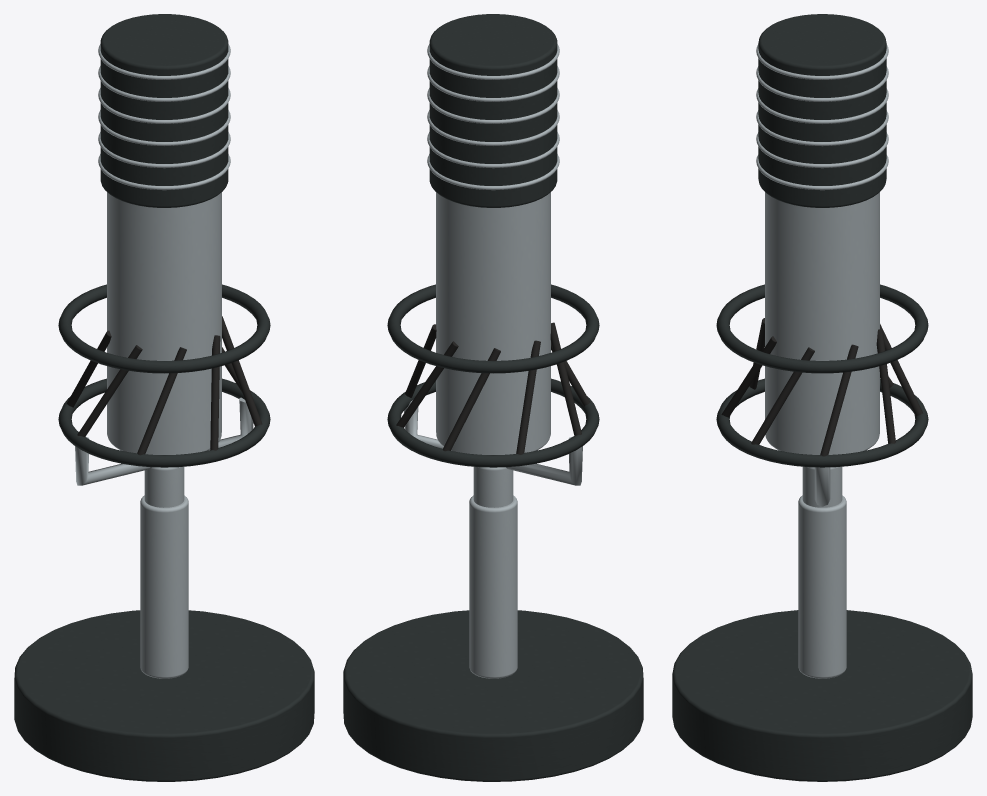
Rendered from microphone.glb.
3 renders of one model, left to right at view 1: azimuth 30°, elevation 25°; view 2: azimuth 150°, elevation 25°; view 3: azimuth 270°, elevation 25°, orthographic.
Visible parts, largest first — view 1: Desk microphone base, Condenser body, Condenser grille, Stand stem, Shock mount cage.001, Shock mount cage, Shock-mount lower cradle, Stand-to-shock-mount adapter, Shock suspension.006, Shock suspension.005, Shock suspension.004, Shock suspension.007 (+7 smaller); view 2: Desk microphone base, Condenser body, Condenser grille, Stand stem, Shock mount cage.001, Shock mount cage, Stand-to-shock-mount adapter, Shock-mount lower cradle, Shock suspension.003, Shock suspension.002, Shock suspension.004, Shock suspension.001 (+7 smaller); view 3: Desk microphone base, Condenser body, Condenser grille, Stand stem, Shock mount cage.001, Shock mount cage, Stand-to-shock-mount adapter, Shock suspension, Shock suspension.001, Shock suspension.007, Grille band.005, Grille band.004 (+7 smaller).
Boxes of the visible parts, box(x1,y1,x2,y2) form: Desk microphone base: box(14, 610, 314, 781); Condenser body: box(107, 192, 221, 454); Condenser grille: box(100, 14, 228, 207); Stand stem: box(140, 495, 188, 678); Shock mount cage.001: box(58, 284, 270, 373); Shock mount cage: box(58, 378, 270, 467); Shock-mount lower cradle: box(75, 397, 253, 485); Stand-to-shock-mount adapter: box(144, 466, 184, 507); Shock suspension.006: box(210, 335, 220, 450); Shock suspension.005: box(137, 347, 186, 455); Shock suspension.004: box(77, 345, 142, 436); Shock suspension.007: box(222, 316, 262, 426); Desk microphone base: box(343, 610, 643, 781); Condenser body: box(436, 192, 550, 454); Condenser grille: box(429, 14, 557, 207); Stand stem: box(469, 495, 517, 678); Shock mount cage.001: box(387, 284, 599, 373); Shock mount cage: box(387, 378, 599, 467); Stand-to-shock-mount adapter: box(473, 466, 513, 507); Shock-mount lower cradle: box(404, 400, 582, 485); Shock suspension.003: box(516, 340, 540, 454); Shock suspension.002: box(443, 348, 500, 451); Shock suspension.004: box(550, 322, 581, 435); Shock suspension.001: box(396, 341, 458, 427); Desk microphone base: box(672, 610, 972, 781); Condenser body: box(765, 192, 879, 454); Condenser grille: box(758, 14, 886, 207); Stand stem: box(798, 495, 846, 678); Shock mount cage.001: box(716, 284, 928, 373); Shock mount cage: box(716, 378, 928, 467); Stand-to-shock-mount adapter: box(802, 466, 842, 507); Shock suspension: box(820, 344, 858, 456); Shock suspension.001: box(876, 329, 895, 443); Shock suspension.007: box(751, 347, 814, 444); Grille band.005: box(756, 44, 888, 79); Grille band.004: box(756, 66, 888, 101).
Size of the model in its own units: 0.136 by 0.3395 by 0.136.
3 materials, 3 textured.
